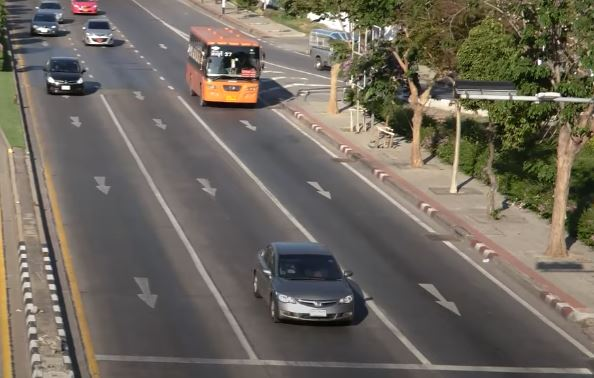Bus: (183, 25, 262, 107)
Car: (253, 239, 356, 326), (44, 55, 86, 97), (84, 19, 113, 47), (30, 11, 58, 36), (36, 1, 64, 21), (69, 1, 98, 14)
